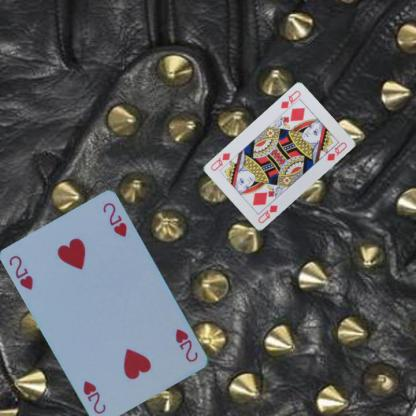2h: (6, 252, 35, 292), (173, 326, 200, 364)
Qd: (278, 88, 302, 115), (255, 202, 279, 225)
